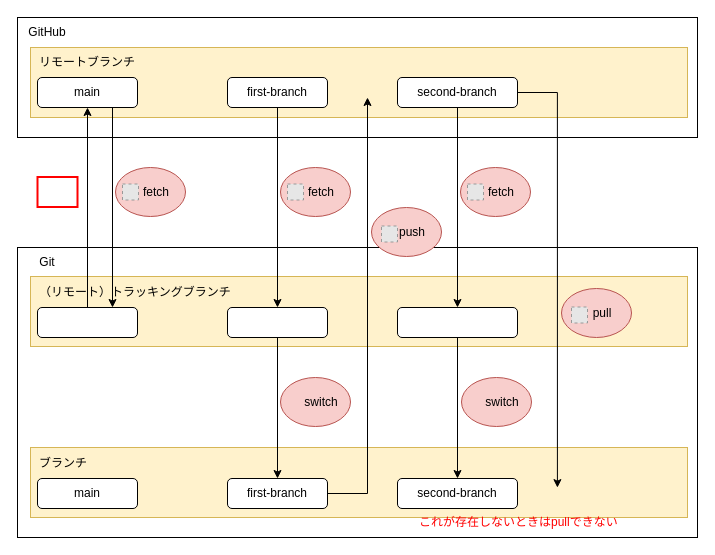
Image size: 715x555. Some labels were removed from this diagram. Grey dashed boxes stand in for pictures. The shapes that lost their labels are listed below. From the top down, each one's centre as x and y in pixels, then its label:
At pixel 57 192: "監視".
At pixel 87 322: "origin/main".
At pixel 277 322: "origin/first-branch".
At pixel 457 322: "origin/second-branch".
